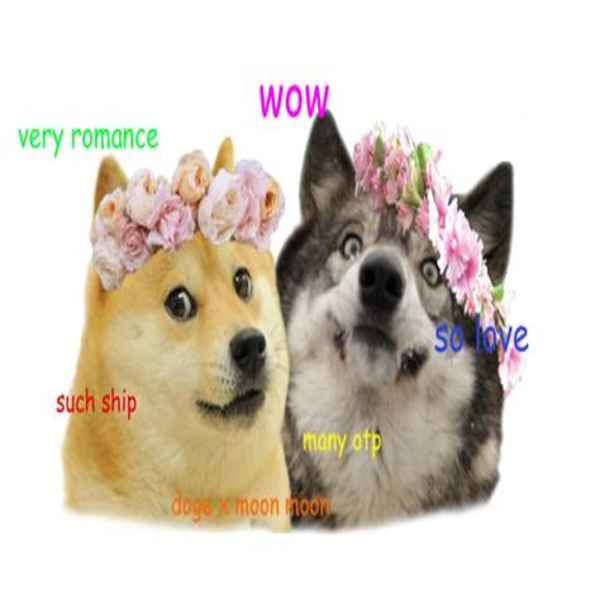doge: (96, 248, 293, 443)
